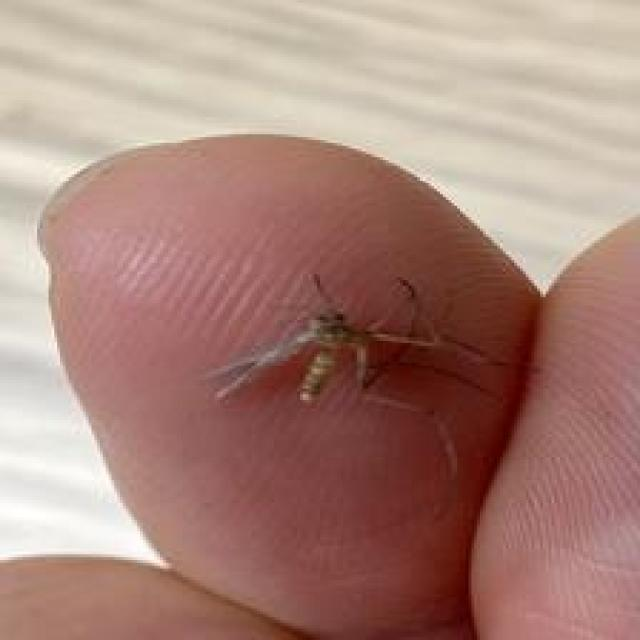Culex: (203, 270, 517, 410)
